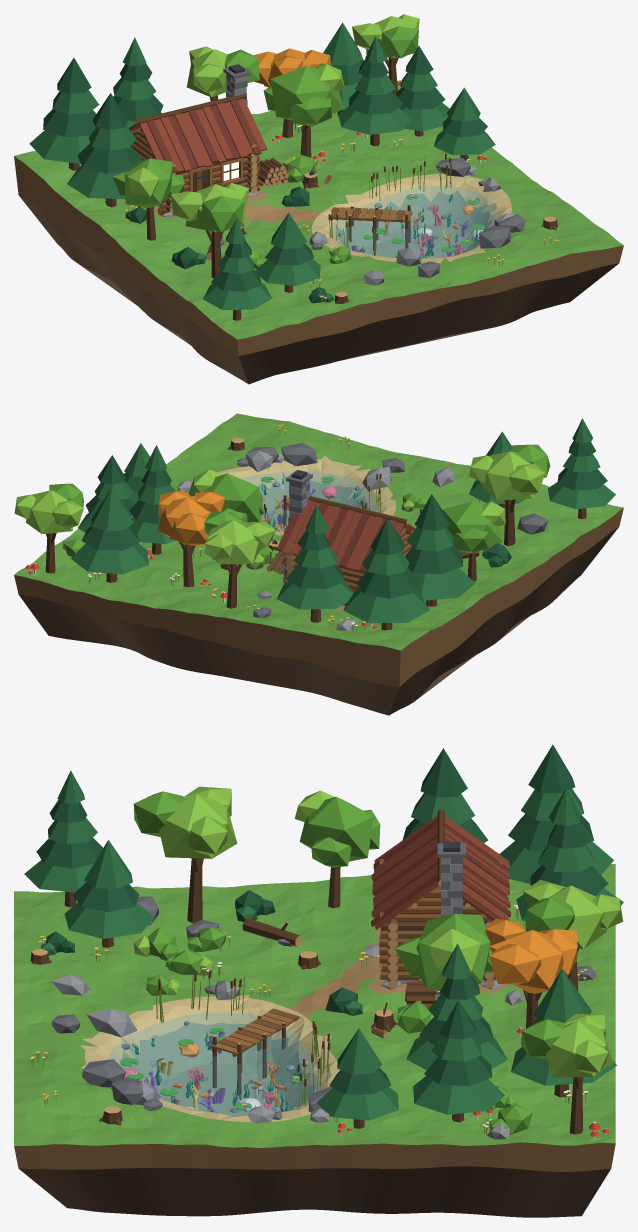
File: ForestDiorama.fbx
3 views of the same model, one above another, from view 1: azimuth 30°, elevation 25°; view 2: azimuth 150°, elevation 25°; view 3: azimuth 270°, elevation 25° (orthographic). The views are drawn at different scales.
Parts seen in each view (by area): view 1: Terrain, GrassSurface, Water, Cabin_Roof, Tree_03, Tree_00, Tree_12, Tree_10, Tree_09, Tree_13, Tree_11, Tree_07 (+16 smaller); view 2: Terrain, GrassSurface, Tree_00, Cabin_Roof, Tree_01, Tree_03, Tree_05, Tree_09, Tree_02, Tree_13, Tree_04, Tree_14 (+14 smaller); view 3: GrassSurface, Terrain, Water, Cabin_Roof, Tree_09, Tree_06, Tree_04, Tree_07, Tree_14, Tree_13, Tree_00, Tree_11 (+21 smaller).
Part boxes in pixels (x1,y1,x2,y2): Terrain: (14, 156, 623, 384); GrassSurface: (14, 80, 623, 339); Water: (332, 186, 497, 257); Cabin_Roof: (129, 94, 267, 172); Tree_03: (67, 93, 141, 207); Tree_00: (29, 58, 99, 170); Tree_12: (263, 63, 344, 157); Tree_10: (338, 36, 411, 146); Tree_09: (170, 183, 249, 278); Tree_13: (203, 219, 271, 320); Tree_11: (255, 212, 320, 292); Tree_07: (112, 158, 184, 240); Terrain: (14, 456, 623, 715); GrassSurface: (14, 413, 623, 650); Tree_00: (343, 518, 429, 630); Cabin_Roof: (276, 496, 415, 571); Tree_01: (277, 505, 353, 622); Tree_03: (405, 494, 475, 606); Tree_05: (71, 488, 148, 582); Tree_09: (469, 444, 550, 546); Tree_02: (204, 511, 275, 608); Tree_13: (547, 418, 615, 519); Tree_04: (158, 490, 225, 587); Tree_14: (14, 483, 83, 573); GrassSurface: (14, 864, 615, 1148); Terrain: (14, 928, 615, 1217); Water: (108, 1013, 321, 1116); Cabin_Roof: (371, 809, 510, 929); Tree_09: (133, 786, 237, 923); Tree_06: (413, 1000, 504, 1122); Tree_04: (485, 918, 577, 1028); Tree_07: (294, 790, 380, 908); Tree_14: (521, 1013, 613, 1134); Tree_13: (24, 770, 102, 907); Tree_00: (499, 744, 613, 884); Tree_11: (64, 840, 153, 947).
Size of the model in its own units: 20.82 by 9.41 by 20.27.
